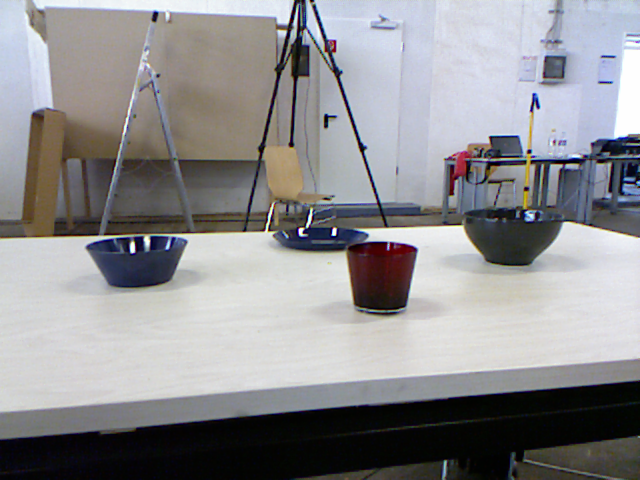bowl_bigger: (462, 207, 566, 266)
bowl_smaller: (85, 234, 188, 288)
chair: (263, 146, 336, 234)
cup: (346, 241, 418, 314)
laptop: (489, 135, 527, 157)
